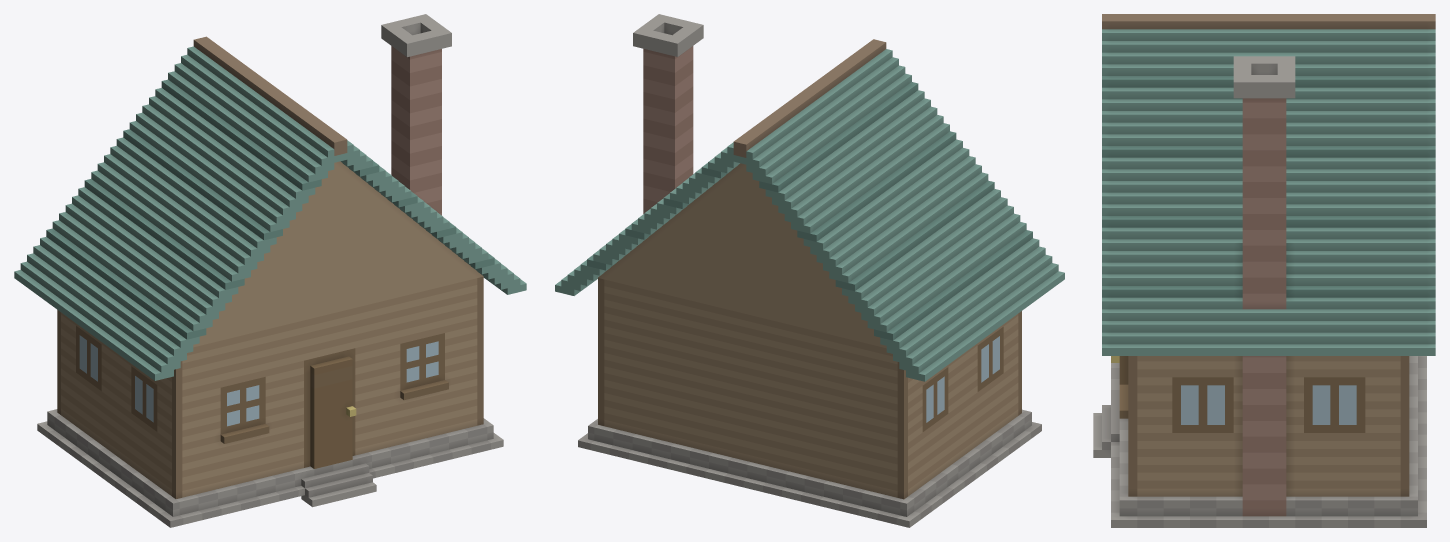
The model's file is maison_armurerie.glb.
The picture shows the model from 3 angles, left to right: view 1: azimuth 30°, elevation 25°; view 2: azimuth 150°, elevation 25°; view 3: azimuth 270°, elevation 25°; orthographic projection. The views are drawn at different scales.
Visible parts, largest first — view 1: geometry_0; view 2: geometry_0; view 3: geometry_0.
Boxes of the visible parts, <box> form: geometry_0: <box>14,14,526,527</box>; geometry_0: <box>555,14,1064,527</box>; geometry_0: <box>1093,14,1435,527</box>.
Size of the model in its own units: 7.25 by 7.12 by 4.88.
